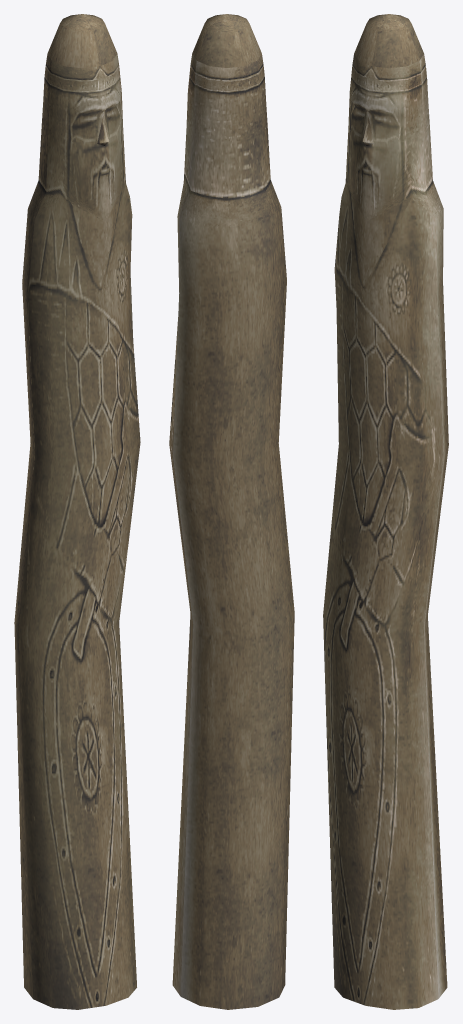
Rendered from goth_cult_statue.dae.
3 views of the same model, side by side, from view 1: azimuth 30°, elevation 25°; view 2: azimuth 210°, elevation 25°; view 3: azimuth 330°, elevation 25° (orthographic).
Parts seen in each view (by area): view 1: Gaul_CultStatue_LP.001; view 2: Gaul_CultStatue_LP.001; view 3: Gaul_CultStatue_LP.001.
Part boxes in pixels (<box>): Gaul_CultStatue_LP.001: <box>14,14,140,1009</box>; Gaul_CultStatue_LP.001: <box>169,14,294,1009</box>; Gaul_CultStatue_LP.001: <box>323,14,448,1009</box>.
Size of the model in its own units: 2.07 by 1.74 by 16.33.
